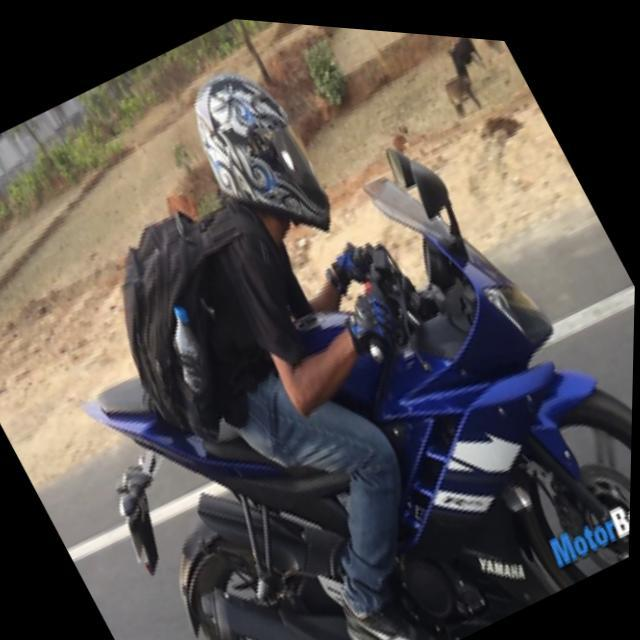Helmet: (182, 69, 336, 244)
